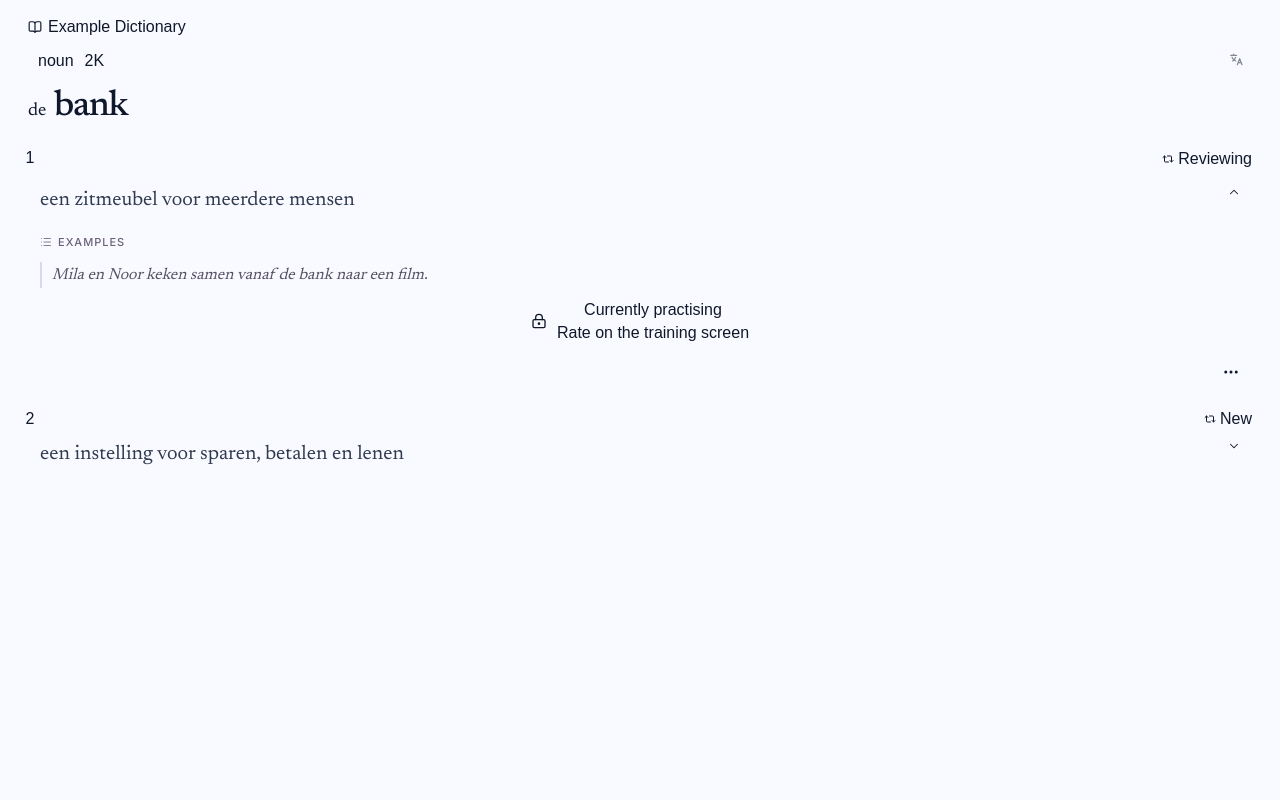
Test: LibrarySenseCardV2Session › Training More keeps enrolled meanings read-only while new meanings retain Learn
The width and height of the screenshot is (1280, 800).
Click the button named "Expand meaning" at (1234, 446), box [1220,432,1248,460]
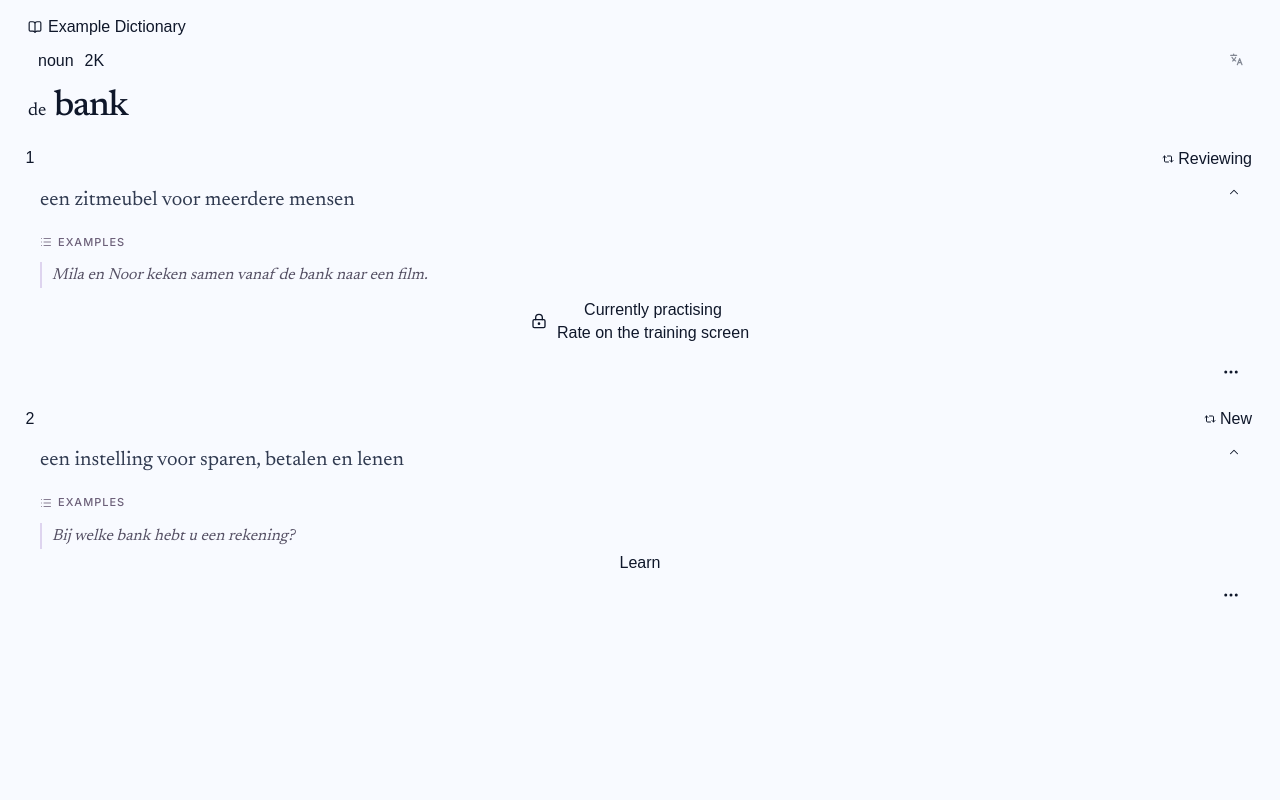
Expected: the button "Learn" is enabled, [40,549,1240,577]
